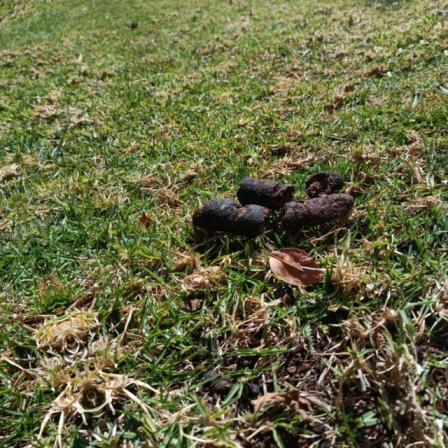dog-poop: (195, 156, 356, 246)
